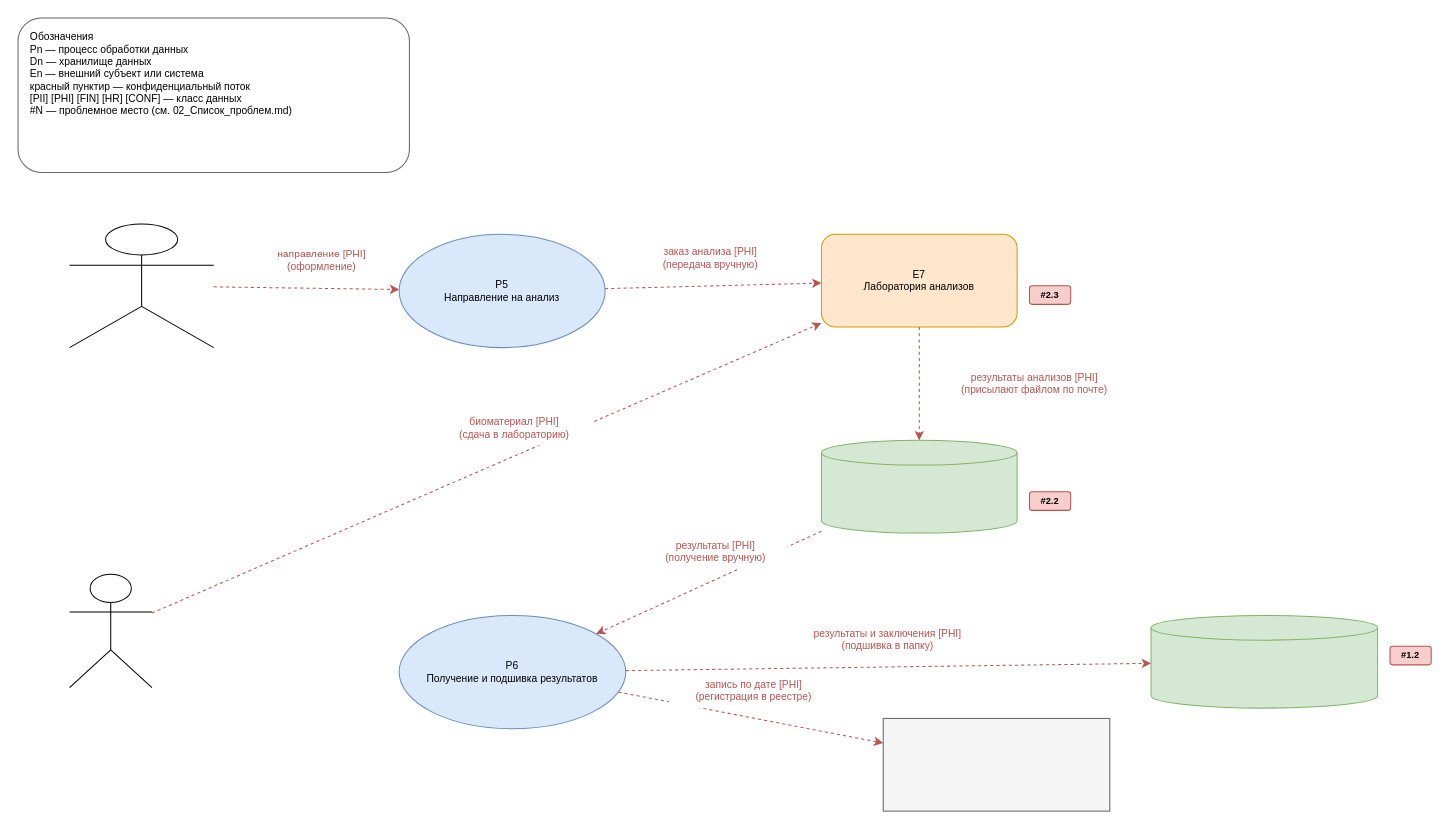
Image size: 1449x829. Some labels were removed from this diagram. Each missing label, with the box of its shape:
D12 Почта / файлы (ручной канал обмена): (820, 439, 1017, 533)
D2 Папка пациента (сканы, заключения): (1150, 614, 1378, 708)
D7 RegistryByDate.xlsx (реестр анализов): (882, 717, 1110, 811)
E1 Пациент: (68, 573, 152, 688)
E2 Медицинский специалист: (68, 223, 214, 348)
